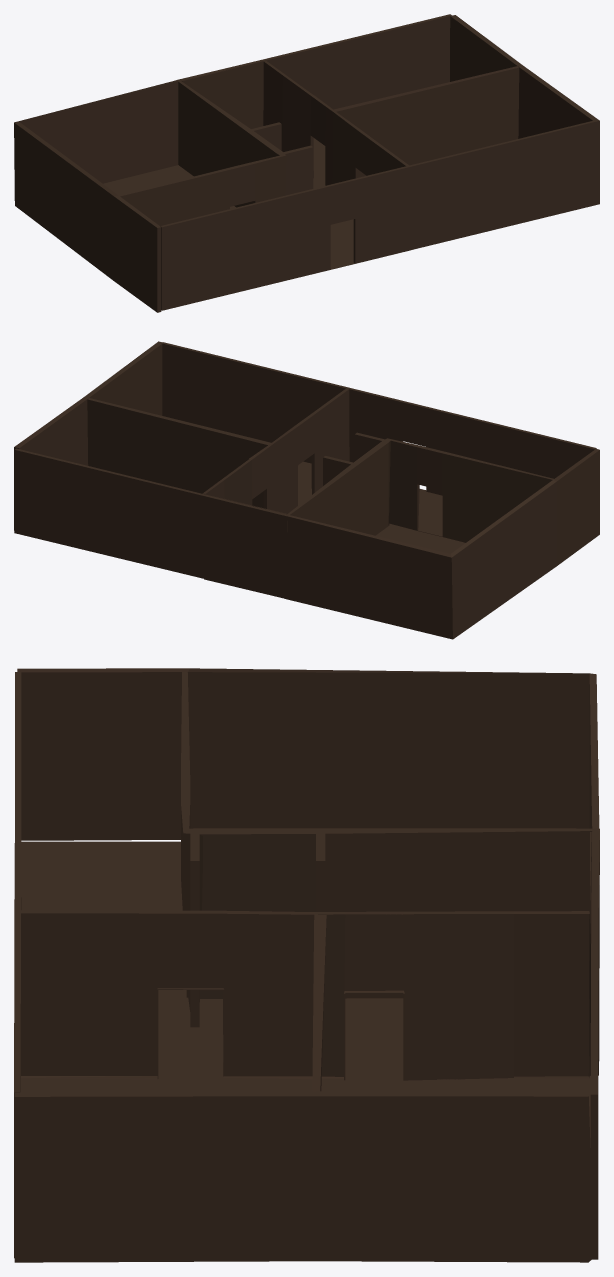
File: Floor0mat.fbx
3 views of the same model, one above another, from view 1: azimuth 30°, elevation 25°; view 2: azimuth 150°, elevation 25°; view 3: azimuth 270°, elevation 25° (orthographic). The views are drawn at different scales.
Parts seen in each view (by area): view 1: Upperhalf, RemovableWall, Cube.003; view 2: Upperhalf, Cube.003, RemovableWall; view 3: Cube.003, Upperhalf, RemovableWall.
Part boxes in pixels (bbox=[...]): Upperhalf: bbox=[14, 14, 451, 312]; RemovableWall: bbox=[160, 120, 595, 310]; Cube.003: bbox=[182, 15, 599, 296]; Upperhalf: bbox=[14, 432, 599, 639]; Cube.003: bbox=[14, 341, 442, 536]; RemovableWall: bbox=[161, 342, 596, 495]; Cube.003: bbox=[14, 832, 591, 1262]; Upperhalf: bbox=[17, 668, 599, 1259]; RemovableWall: bbox=[14, 672, 21, 1258].
Bounding box in the file's own units: 4174 × 769 × 2412.
